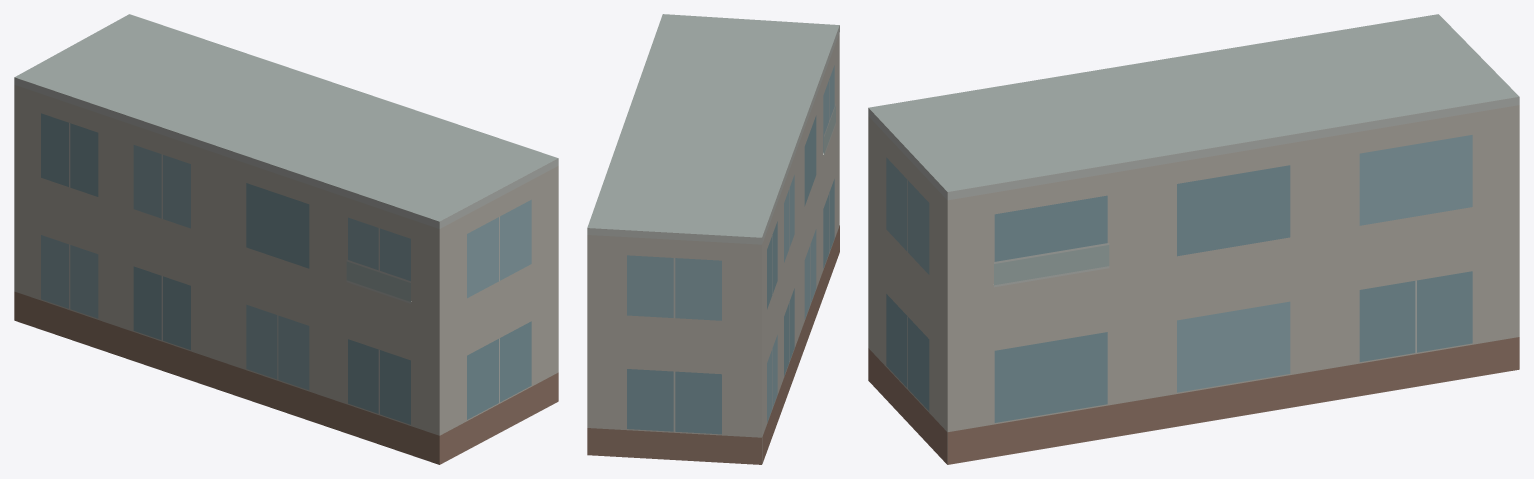
Rendered from survey-upis-32725899.glb.
3 renders of one model, left to right at view 1: azimuth 30°, elevation 25°; view 2: azimuth 150°, elevation 25°; view 3: azimuth 270°, elevation 25°, orthographic. The views are drawn at different scales.
Visible parts, largest first — view 1: survey-upis-32725899.tmp; view 2: survey-upis-32725899.tmp; view 3: survey-upis-32725899.tmp.
Part boxes in pixels (<box>): survey-upis-32725899.tmp: <box>14,14,558,464</box>; survey-upis-32725899.tmp: <box>587,14,839,464</box>; survey-upis-32725899.tmp: <box>868,14,1519,464</box>.
Size of the model in its own units: 11.21 by 8 by 17.32.
